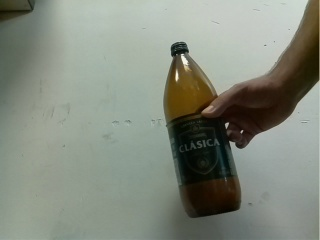pote cristal: (163, 42, 242, 219)
